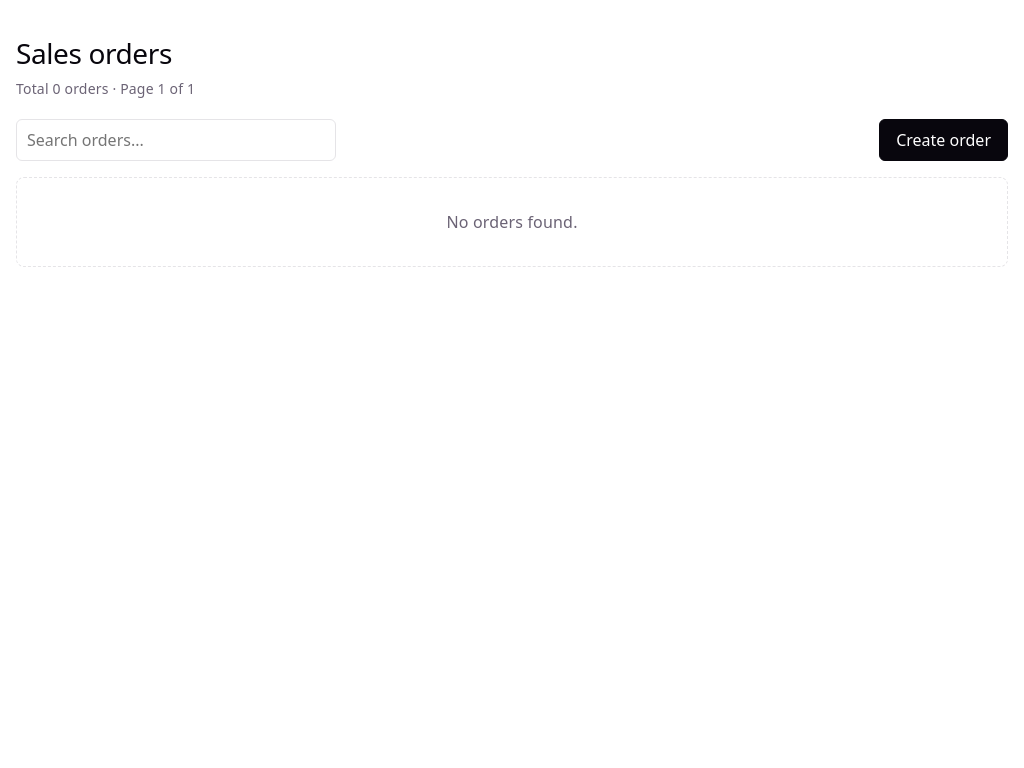
Test: OrdersPage › opens the existing order form when the create order button is used
The image size is (1024, 768).
Expected: the text "No orders found." is shown, [16, 177, 1008, 267]
Click the button "Create order" at (944,140), box [879, 119, 1008, 161]
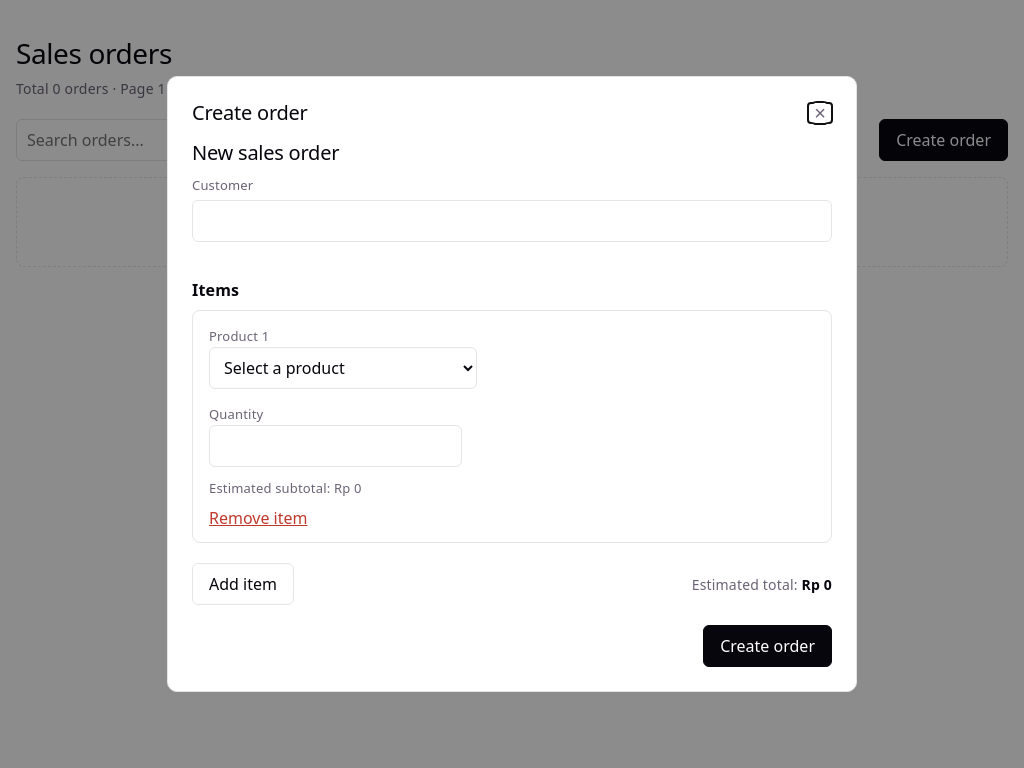
Expected: the field labelled "Customer" is shown, [192, 200, 832, 242]
